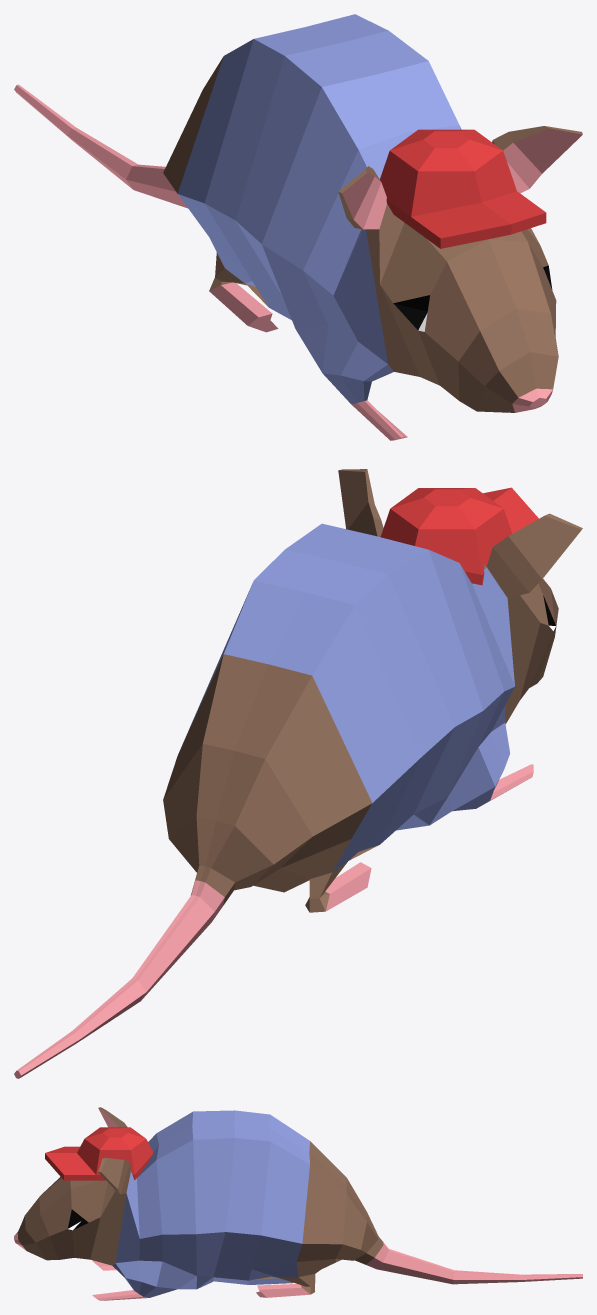
Rendered from skins rat calotte .fbx.
The picture shows the model from 3 angles, top to bottom: view 1: azimuth 30°, elevation 25°; view 2: azimuth 150°, elevation 25°; view 3: azimuth 270°, elevation 25°; orthographic projection. The views are drawn at different scales.
Visible parts, largest first — view 1: Cube.003; view 2: Cube.003; view 3: Cube.003.
Boxes of the visible parts, x1=… form: Cube.003: x1=14, y1=14, x2=582, y2=440; Cube.003: x1=14, y1=469, x2=582, y2=1078; Cube.003: x1=14, y1=1107, x2=582, y2=1300.
Size of the model in its own units: 210 by 243 by 778.
